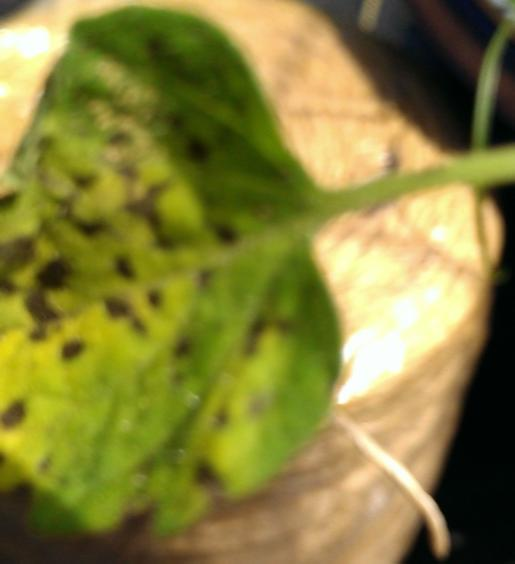Tomato Septoria leaf spot: (0, 0, 380, 564)
